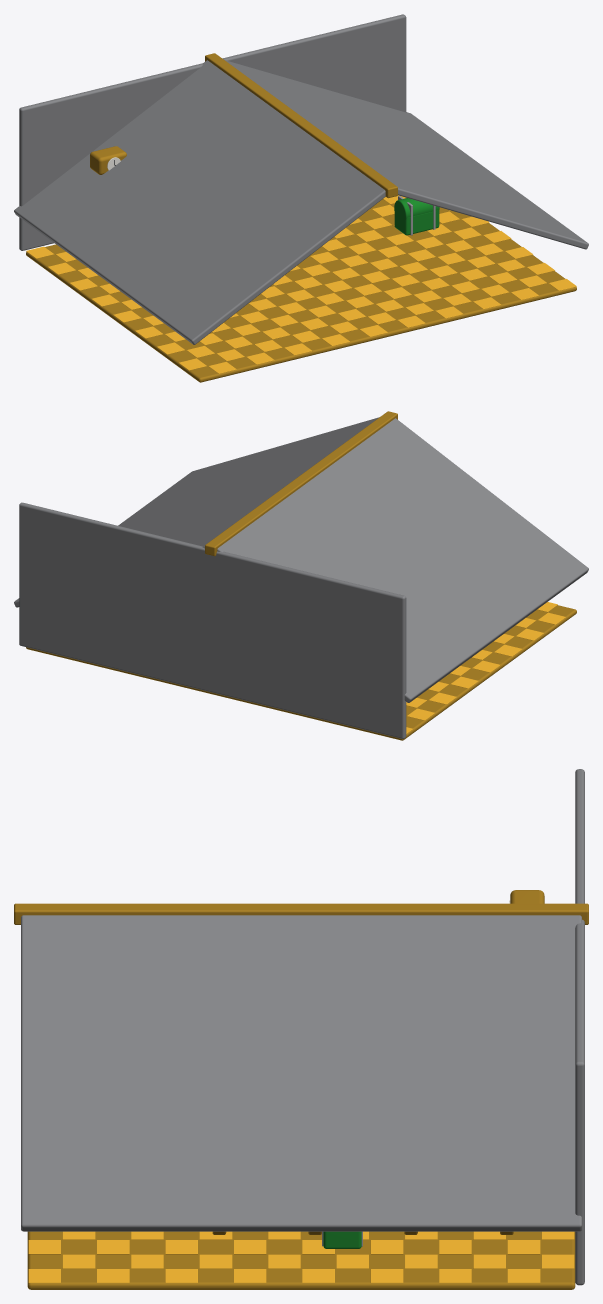
The model's file is haunted_attic.glb.
The picture shows the model from 3 angles, top to bottom: view 1: azimuth 30°, elevation 25°; view 2: azimuth 150°, elevation 25°; view 3: azimuth 270°, elevation 25°; orthographic projection. The views are drawn at different scales.
Parts seen in each view (by area): view 1: Set, Flat_001, Part_203, Part_180, Part_204; view 2: Set, Flat_001; view 3: Set, Flat_001, Part_203.
Part boxes in pixels (x1,y1,x2,y2): Set: (14,14,588,344); Flat_001: (26,197,576,382); Part_203: (394,210,439,235); Part_180: (90,146,126,174); Part_204: (394,198,439,222); Set: (14,411,588,738); Flat_001: (26,605,576,740); Set: (14,769,588,1285); Flat_001: (27,1231,575,1289); Part_203: (323,1231,361,1248).
Size of the model in its own units: 10.51 by 3.86 by 8.4.
